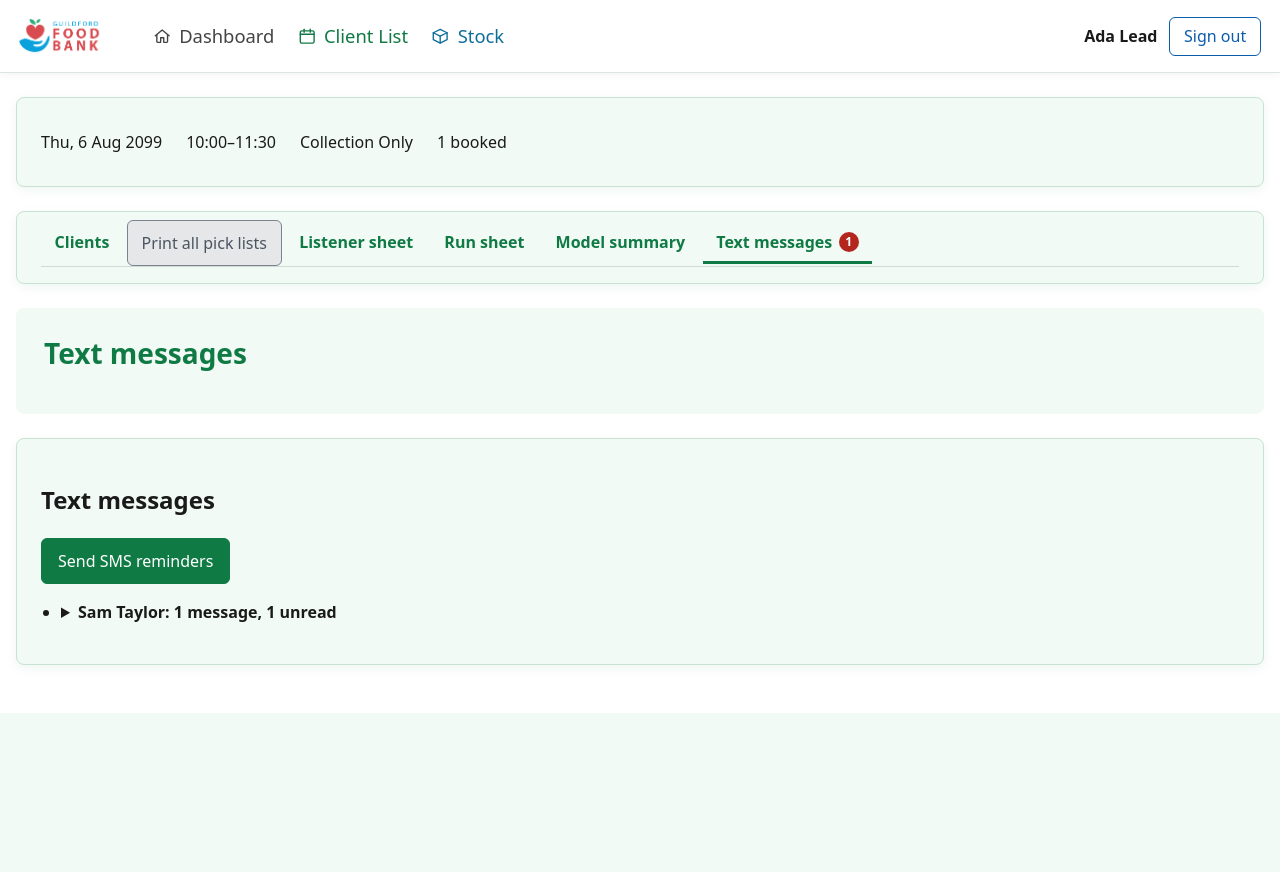
a team lead running a session › sends reminders and opens a household conversation without exposing a phone number
Click the button "Send SMS reminders" at (136, 561), box [41,538,230,584]
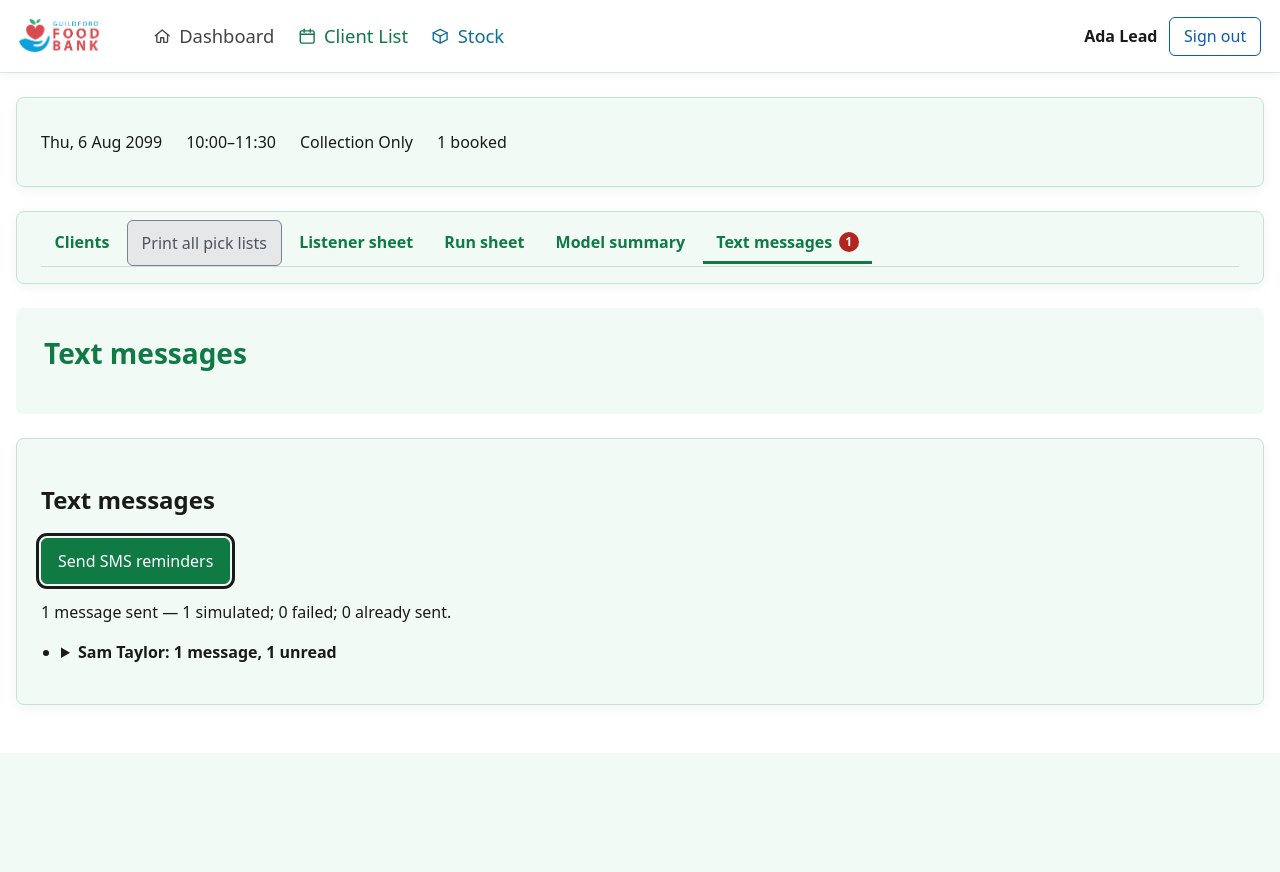
Check: the text "1 message sent — 1 simulated; 0 failed; 0 already sent." is shown, box [41,601,451,623]
Click the heading "Sam Taylor: 1 message, 1 unread" at (207, 652), box [78,641,337,663]
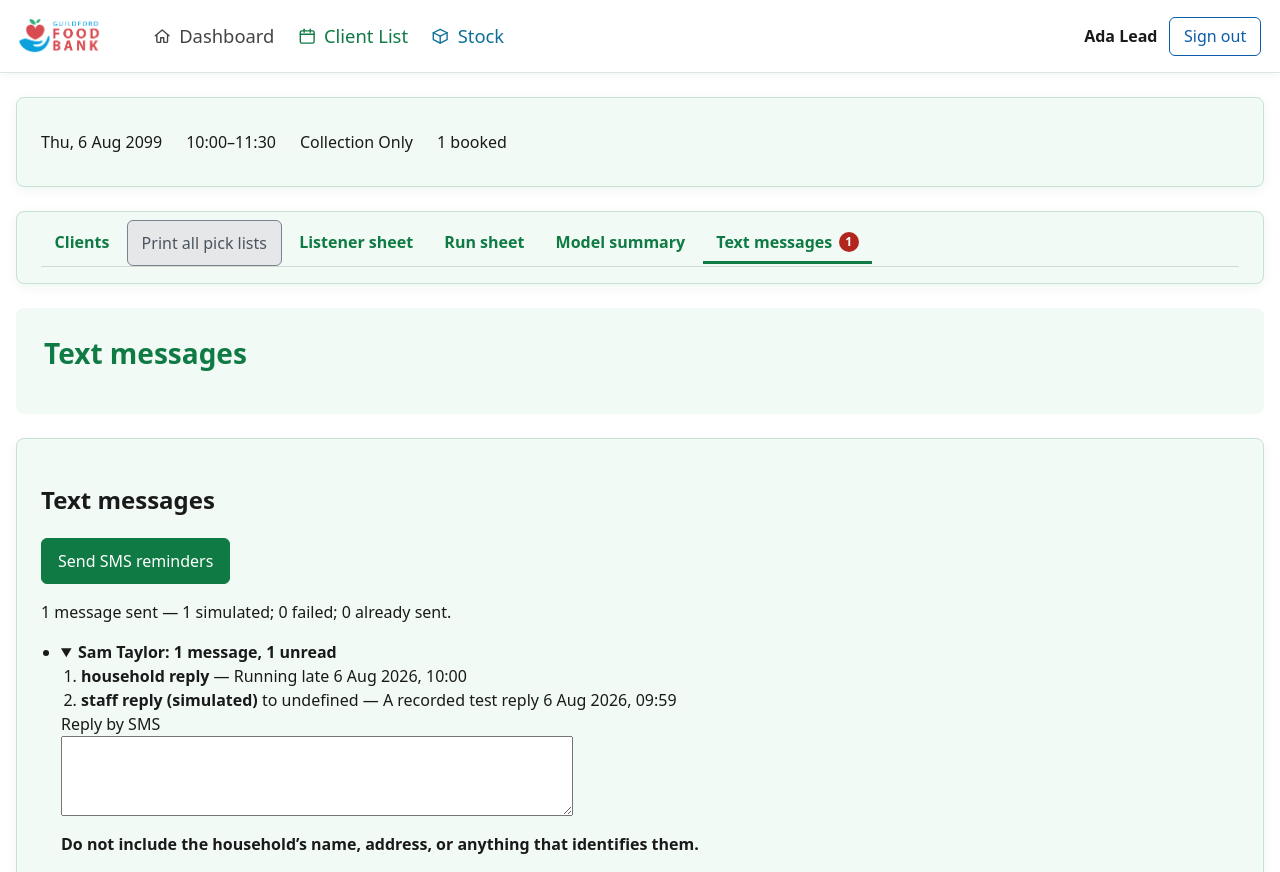
Check: the list item "household reply — Running late 6 Aug 2026, 10:00" is shown, box [81,665,467,687]
Check: the text "staff reply (simulated)" is shown, box [81,689,258,711]
Type "We will keep it." into the text box labelled "Reply by SMS" at (317, 776), box [61,736,573,816]
(page scrolled)
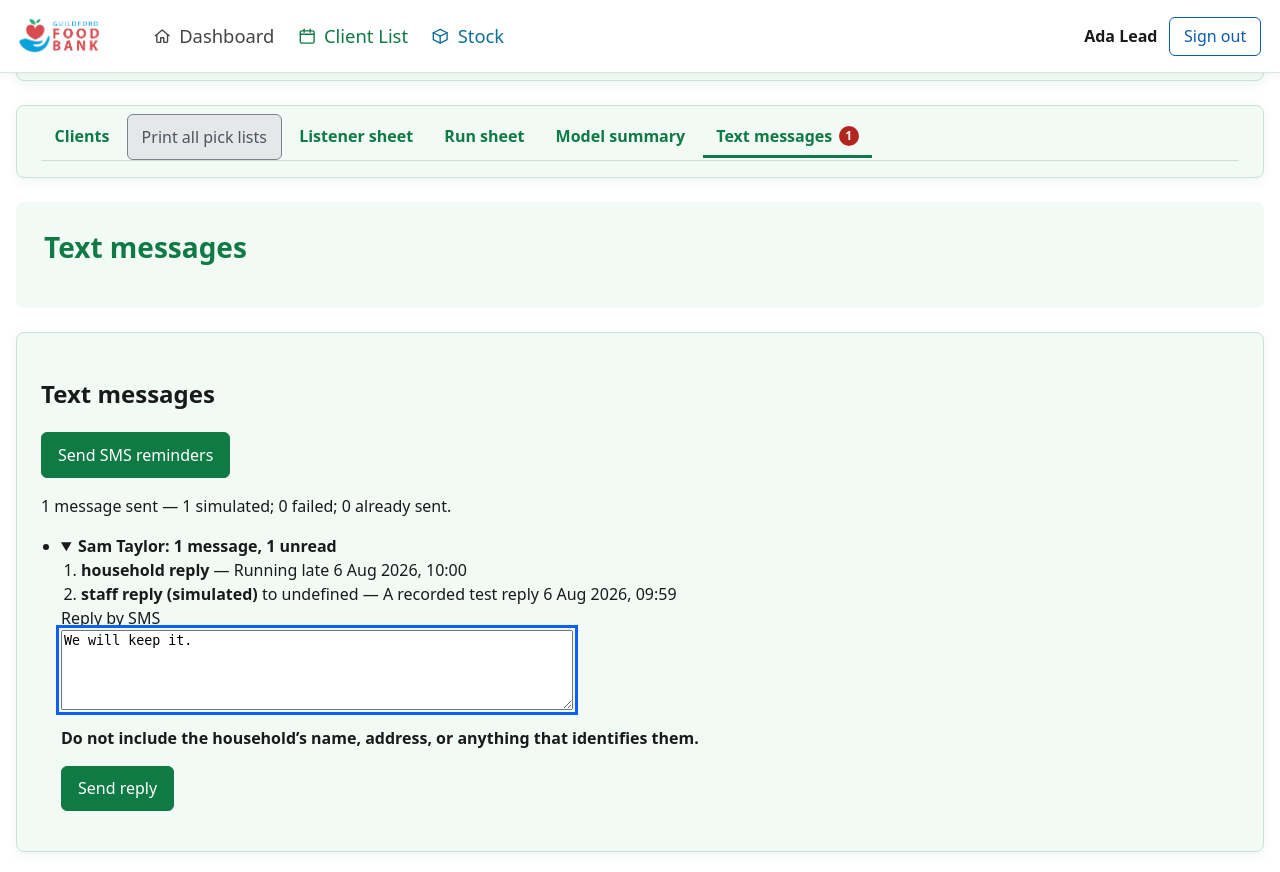
Click the button "Send reply" at (118, 788), box [61,766,174,811]
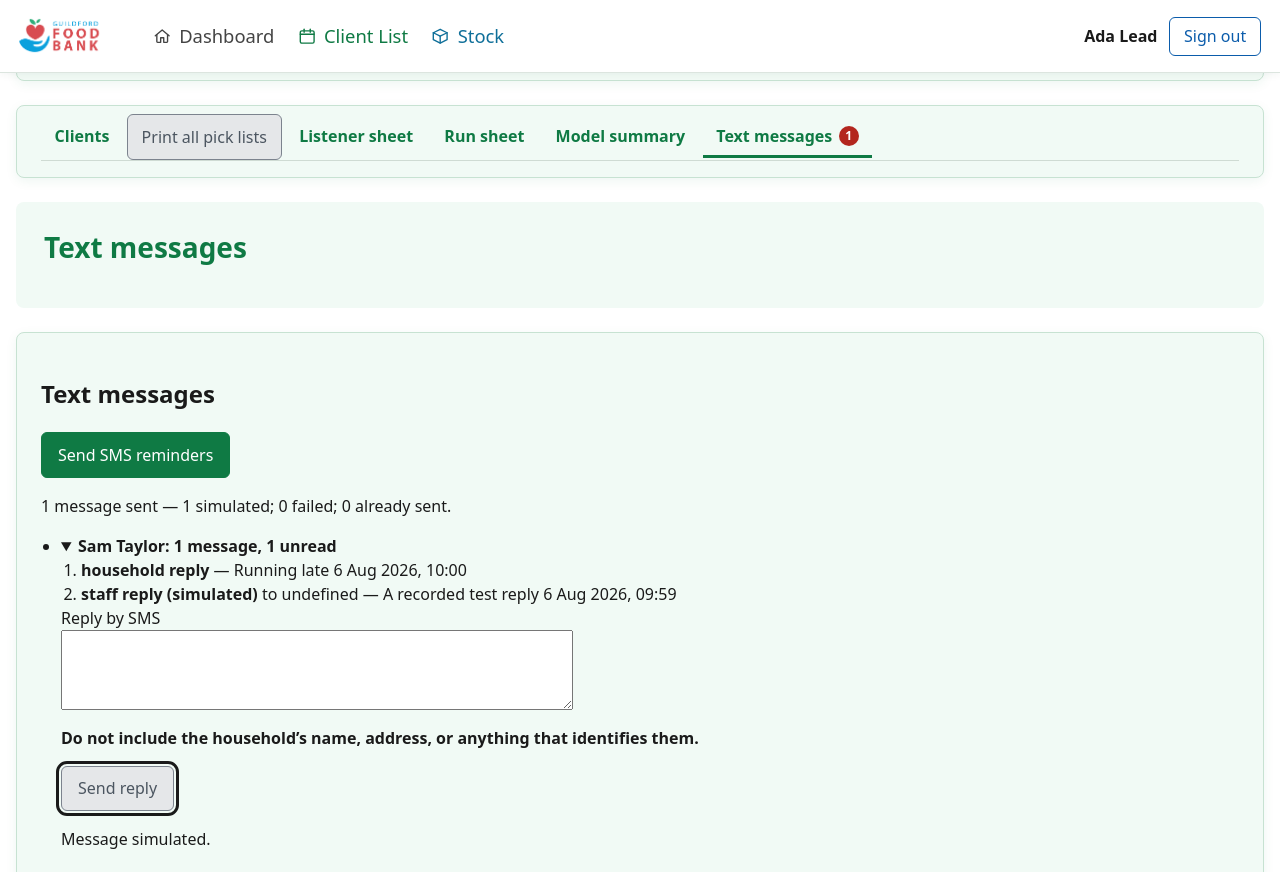
Check: the text "Message simulated." is shown, box [61,828,210,850]
